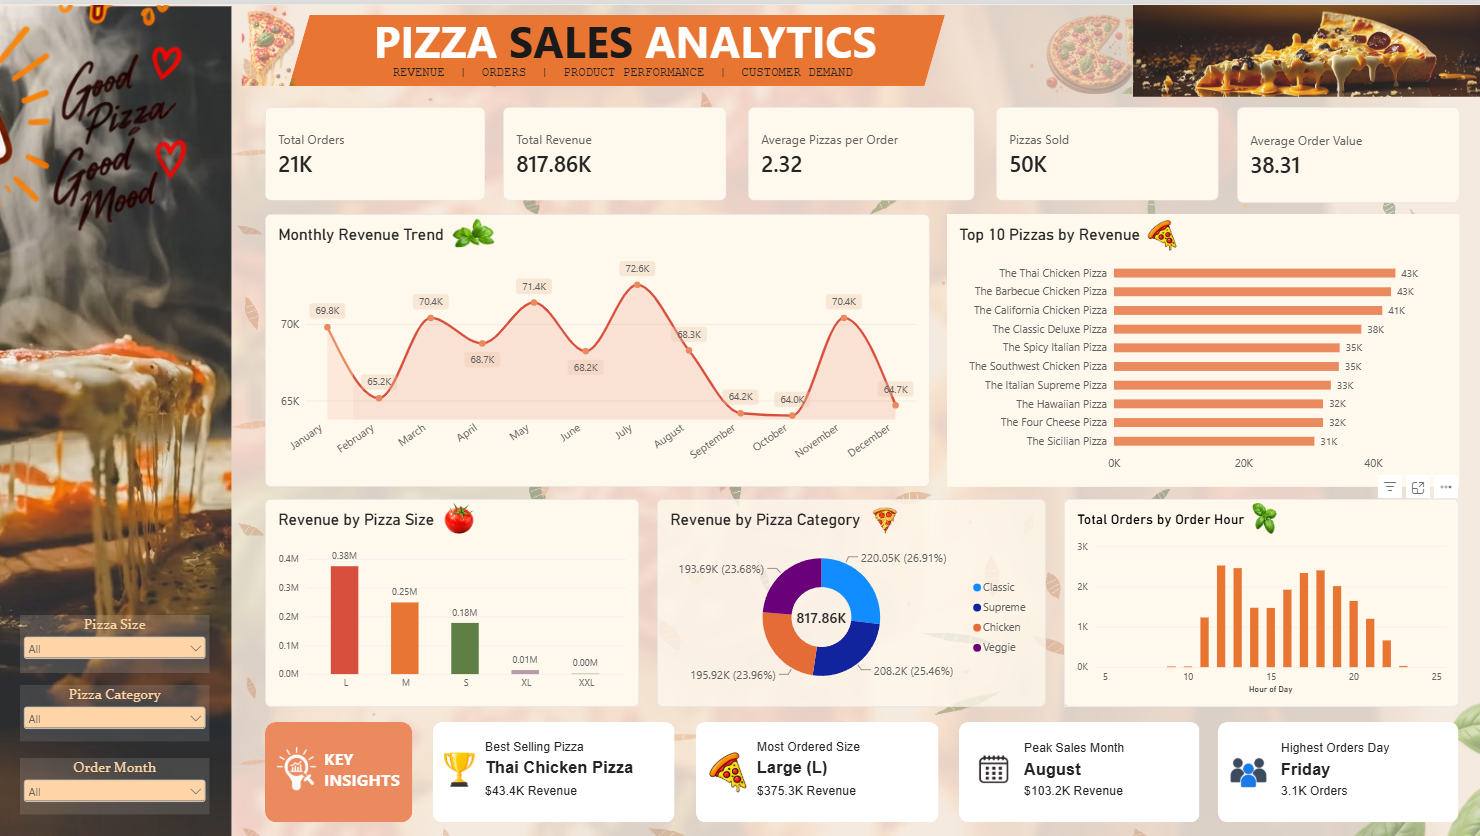

This screenshot's page, from the dashboard's own definition file:
{"tool":"powerbi","page":{"name":"Page 1","canvas":[1920,1080],"ordinal":0},"visuals":[{"type":"image","box":[0,0,1920,1079],"z":0,"group":"g2"},{"type":"shape","box":[376.5,14.2,848.7,91.8],"z":0,"group":"g1"},{"type":"image","box":[676.7,710.3,914.7,370],"z":1000,"group":"g2"},{"type":"image","box":[209.6,77.6,565.4,816.4],"z":2000,"group":"g2"},{"type":"image","box":[209.6,0,556.3,297.6],"z":3000,"group":"g2"},{"type":"image","box":[248.4,803.5,377.8,276.9],"z":4000,"group":"g2"},{"type":"image","box":[800.9,0,1119.1,865.6],"z":5000,"group":"g2"},{"type":"cardVisual","fields":{"Data":["pizza_sales.Total Revenue"]},"box":[652.8,132.9,289.5,121.1],"z":6000,"group":"g2"},{"type":"cardVisual","fields":{"Data":["pizza_sales.Total Orders"]},"box":[345.4,133.3,285,121.1],"z":7000,"group":"g2"},{"type":"cardVisual","fields":{"Data":["pizza_sales.Pizzas Sold"]},"box":[1290.8,132.9,288,121.1],"z":8000,"group":"g2"},{"type":"cardVisual","fields":{"Data":["pizza_sales.Average Order Value"]},"box":[1602.5,132.9,288,124.1],"z":9000,"group":"g2"},{"type":"textbox","box":[439.3,10.9,806,99.6],"z":10000,"group":"g1"},{"type":"cardVisual","fields":{"Data":["pizza_sales.Average Pizzas per Order"]},"box":[970.3,132.9,293.9,121.1],"z":10000,"group":"g2"},{"type":"lineChart","title":"Monthly Revenue Trend","fields":{"Category":["pizza_sales.order_date.Variation.Date Hierarchy.Month"],"Y":["pizza_sales.Total Revenue"]},"box":[345.6,271.8,859.6,353],"z":11000,"group":"g2"},{"type":"donutChart","title":"Revenue by Pizza Category","fields":{"Category":["pizza_sales.pizza_category"],"Y":["pizza_sales.Total Revenue"]},"box":[852.3,640.9,503.4,268.5],"z":12000,"group":"g2"},{"type":"clusteredColumnChart","title":"Revenue by Pizza Size","fields":{"Category":["pizza_sales.pizza_size"],"Y":["pizza_sales.Total Revenue"]},"box":[345.1,640.9,483.9,268.5],"z":13000,"group":"g2"},{"type":"clusteredBarChart","title":"Top 10 Pizzas by Revenue","fields":{"Category":["pizza_sales.pizza_name"],"Y":["pizza_sales.Total Revenue"]},"box":[1227.3,271.8,663.1,353],"z":14000,"group":"g2"},{"type":"columnChart","fields":{"Category":["pizza_sales.Order Hour"],"Y":["pizza_sales.Total Orders"]},"box":[1379,640.9,511.1,268.5],"z":15000,"group":"g2"},{"type":"image","box":[1729.3,889.9,190.7,189.4],"z":16000,"group":"g2"},{"type":"image","box":[0,0,302.3,1080.6],"z":17000,"group":"g2"},{"type":"image","box":[0,0,248.1,310.2],"z":18000,"group":"g2"},{"type":"image","box":[1468.5,0,451.5,120.6],"z":19000,"group":"g2"},{"type":"slicer","title":"Pizza Category","fields":{"Values":["pizza_sales.pizza_category"]},"box":[28.5,880.9,245.2,72.6],"z":20000,"group":"g2"},{"type":"slicer","title":"Pizza Size","fields":{"Values":["pizza_sales.pizza_size"]},"box":[28.5,790.1,245.2,75.2],"z":21000,"group":"g2"},{"type":"slicer","title":"Order Month","fields":{"Values":["pizza_sales.order_date.Variation.Date Hierarchy.Month"]},"box":[28.5,975.6,245.2,72.6],"z":22000,"group":"g2"},{"type":"shape","box":[345.1,928.9,190.7,129.7],"z":23000,"group":"g2"},{"type":"image","box":[355.5,961.3,61,55.8],"z":24000,"group":"g2"},{"type":"textbox","box":[421.6,961.3,151.8,55.8],"z":25000,"group":"g2"},{"type":"shape","box":[1578.8,928.9,311.4,129.7],"z":26000,"group":"g2"},{"type":"shape","box":[1242.8,928.9,311.4,129.7],"z":27000,"group":"g2"},{"type":"shape","box":[902.9,928.9,313.9,129.7],"z":28000,"group":"g2"},{"type":"shape","box":[563,928.9,312.6,129.7],"z":29000,"group":"g2"},{"type":"textbox","box":[630.5,950.9,145.3,31.1],"z":30000,"group":"g2"},{"type":"textbox","box":[982.1,950.9,201.1,31.1],"z":31000,"group":"g2"},{"type":"textbox","box":[1327.1,952.2,175.1,29.8],"z":32000,"group":"g2"},{"type":"textbox","box":[1660.5,952.2,164.8,29.8],"z":33000,"group":"g2"},{"type":"textbox","box":[630.1,975.5,222.5,28.5],"z":34000,"group":"g2"},{"type":"textbox","box":[982.1,975.6,177.7,28.5],"z":35000,"group":"g2"},{"type":"textbox","box":[1327.1,977.5,150.5,25.9],"z":36000,"group":"g2"},{"type":"textbox","box":[1659.9,978.1,86.7,27.2],"z":37000,"group":"g2"},{"type":"textbox","box":[630.5,1008,184.2,36.3],"z":38000,"group":"g2"},{"type":"textbox","box":[982.1,1008,201.1,35],"z":39000,"group":"g2"},{"type":"textbox","box":[1327.1,1008,242.6,29.8],"z":40000,"group":"g2"},{"type":"textbox","box":[1660.5,1008,145.3,57.1],"z":41000,"group":"g2"},{"type":"image","box":[563,965.2,67.5,49.3],"z":42000,"group":"g2"},{"type":"image","box":[917.2,967.8,53.2,53.2],"z":43000,"group":"g2"},{"type":"image","box":[1264.9,965.2,45.4,48],"z":44000,"group":"g2"},{"type":"image","box":[1591.8,965.2,53.2,55.8],"z":45000,"group":"g2"},{"type":"group","id":"g1","title":"Group 1","box":[376.5,10.9,868.8,99.6],"z":46000,"group":"g2"},{"type":"textbox","box":[472.2,77.6,710.3,28.5],"z":47000,"group":"g2"},{"type":"image","box":[574.4,640.4,44,49.2],"z":48000,"group":"g2"},{"type":"image","box":[586.1,271.7,56.9,49.2],"z":49000,"group":"g2"},{"type":"image","box":[1485.3,279.5,41.4,40.1],"z":50000,"group":"g2"},{"type":"image","box":[1117.8,650.8,59.5,34.9],"z":51000,"group":"g2"},{"type":"image","box":[1612.1,645.6,53,40.1],"z":52000,"group":"g2"},{"type":"image","box":[1278.3,10.4,265.2,106.1],"z":53000,"group":"g2"},{"type":"image","box":[226.4,0,245.8,106.1],"z":54000,"group":"g2"},{"type":"group","id":"g2","title":"Group 2","box":[0,0,1920,1080.6],"z":54001}]}

Visuals, with their boxes in screenshot pixels (x1, y1, x2, y2), scaled from the page's 1920x1080 canvas onto the 1480x836 screenshot:
image: <box>0,0,1479,835</box>
shape: <box>290,11,944,82</box>
image: <box>522,550,1227,835</box>
image: <box>162,60,597,692</box>
image: <box>162,0,590,230</box>
image: <box>191,622,483,835</box>
image: <box>617,0,1479,670</box>
cardVisual - pizza_sales.Total Revenue: <box>503,103,726,197</box>
cardVisual - pizza_sales.Total Orders: <box>266,103,486,197</box>
cardVisual - pizza_sales.Pizzas Sold: <box>995,103,1217,197</box>
cardVisual - pizza_sales.Average Order Value: <box>1235,103,1457,199</box>
textbox: <box>339,8,960,86</box>
cardVisual - pizza_sales.Average Pizzas per Order: <box>748,103,974,197</box>
"Monthly Revenue Trend" lineChart: <box>266,210,929,484</box>
"Revenue by Pizza Category" donutChart: <box>657,496,1045,704</box>
"Revenue by Pizza Size" clusteredColumnChart: <box>266,496,639,704</box>
"Top 10 Pizzas by Revenue" clusteredBarChart: <box>946,210,1457,484</box>
columnChart - pizza_sales.Order Hour x pizza_sales.Total Orders: <box>1063,496,1457,704</box>
image: <box>1333,689,1479,835</box>
image: <box>0,0,233,835</box>
image: <box>0,0,191,240</box>
image: <box>1132,0,1479,93</box>
"Pizza Category" slicer: <box>22,682,211,738</box>
"Pizza Size" slicer: <box>22,612,211,670</box>
"Order Month" slicer: <box>22,755,211,811</box>
shape: <box>266,719,413,819</box>
image: <box>274,744,321,787</box>
textbox: <box>325,744,442,787</box>
shape: <box>1217,719,1457,819</box>
shape: <box>958,719,1198,819</box>
shape: <box>696,719,938,819</box>
shape: <box>434,719,675,819</box>
textbox: <box>486,736,598,760</box>
textbox: <box>757,736,912,760</box>
textbox: <box>1023,737,1158,760</box>
textbox: <box>1280,737,1407,760</box>
textbox: <box>486,755,657,777</box>
textbox: <box>757,755,894,777</box>
textbox: <box>1023,757,1139,777</box>
textbox: <box>1280,757,1346,778</box>
textbox: <box>486,780,628,808</box>
textbox: <box>757,780,912,807</box>
textbox: <box>1023,780,1210,803</box>
textbox: <box>1280,780,1392,824</box>
image: <box>434,747,486,785</box>
image: <box>707,749,748,790</box>
image: <box>975,747,1010,784</box>
image: <box>1227,747,1268,790</box>
"Group 1" group: <box>290,8,960,86</box>
textbox: <box>364,60,912,82</box>
image: <box>443,496,477,534</box>
image: <box>452,210,496,248</box>
image: <box>1145,216,1177,247</box>
image: <box>862,504,908,531</box>
image: <box>1243,500,1284,531</box>
image: <box>985,8,1190,90</box>
image: <box>175,0,364,82</box>
"Group 2" group: <box>0,0,1479,835</box>
